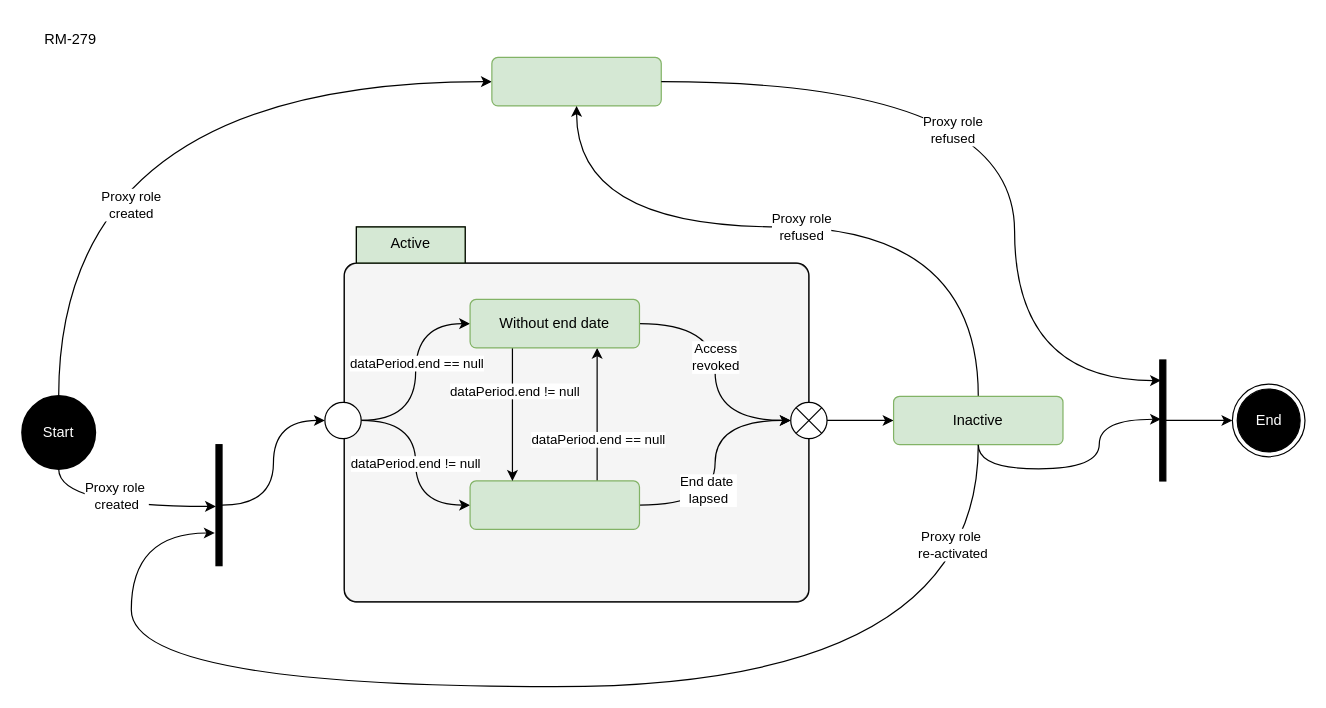
Image size: 1326x708. Some labels were removed from this diagram. The shapes that lost their labels are listed below. From the top down, each one's box as (x1, y1, x2, y2) in pixels, then its label:
(491, 56, 661, 106): Rejected
(469, 480, 639, 529): With end date
